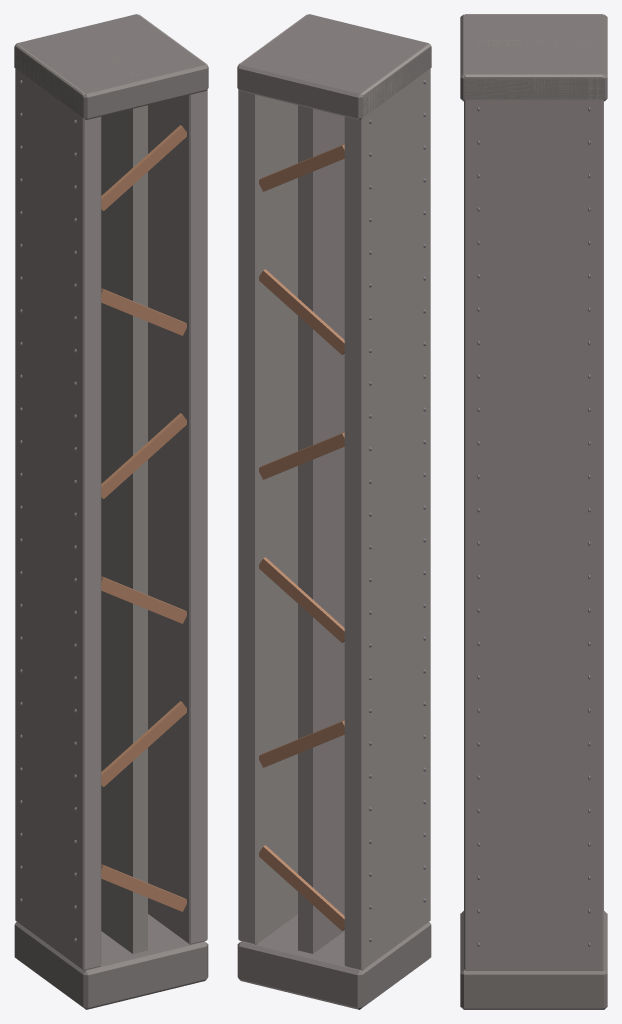
Rendered from foundry_pillar.glb.
The picture shows the model from 3 angles, left to right: view 1: azimuth 30°, elevation 25°; view 2: azimuth 150°, elevation 25°; view 3: azimuth 270°, elevation 25°; orthographic projection. The views are drawn at different scales.
Parts seen in each view (by area): view 1: girder*1.1, girder*1.002, girder, girder*0.001, girder*0.8, rust.002, rust.006, rust.010, rust, rust.004, rust.008; view 2: girder*1.1, girder*1.002, girder, girder*0.001, girder*0.8, rust.001, rust.005, rust.009, rust.003, rust.007, rust.011; view 3: girder*1.002, girder*0.001, girder*0.8.
Part boxes in pixels (<box>): girder*1.1: <box>15,44,101,970</box>; girder*1.002: <box>138,14,207,944</box>; girder: <box>101,45,147,953</box>; girder*0.001: <box>14,14,208,119</box>; girder*0.8: <box>14,914,208,1009</box>; rust.002: <box>101,701,186,786</box>; rust.006: <box>101,413,186,498</box>; rust.010: <box>101,125,186,210</box>; rust: <box>101,864,186,911</box>; rust.004: <box>101,576,186,623</box>; rust.008: <box>101,288,186,335</box>; girder*1.1: <box>344,44,430,970</box>; girder*1.002: <box>238,14,307,944</box>; girder: <box>298,75,344,953</box>; girder*0.001: <box>237,14,431,119</box>; girder*0.8: <box>237,914,431,1009</box>; rust.001: <box>259,845,344,930</box>; rust.005: <box>259,557,344,642</box>; rust.009: <box>259,269,344,354</box>; rust.003: <box>259,720,344,767</box>; rust.007: <box>259,432,344,479</box>; rust.011: <box>259,144,344,191</box>; girder*1.002: <box>464,68,603,970</box>; girder*0.001: <box>460,14,607,101</box>; girder*0.8: <box>460,911,607,1009</box>.
Size of the model in its own units: 2.05 by 14 by 2.
